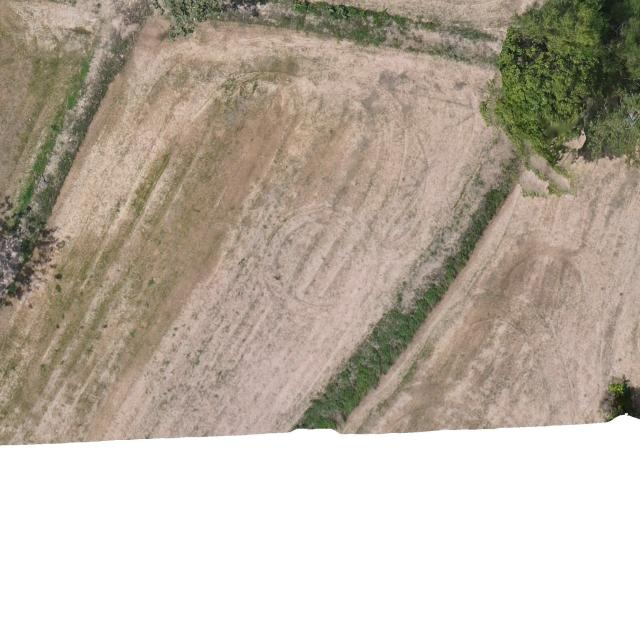Tree: (475, 0, 640, 165), (150, 0, 226, 45)
